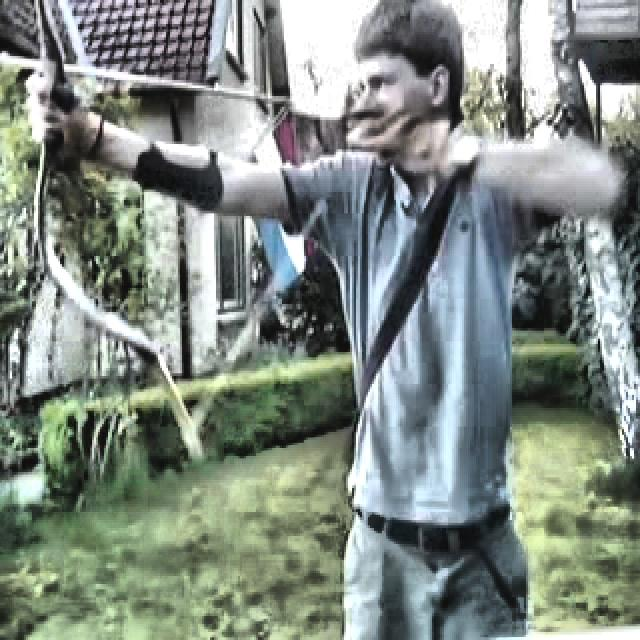P: (0, 9, 635, 637)
